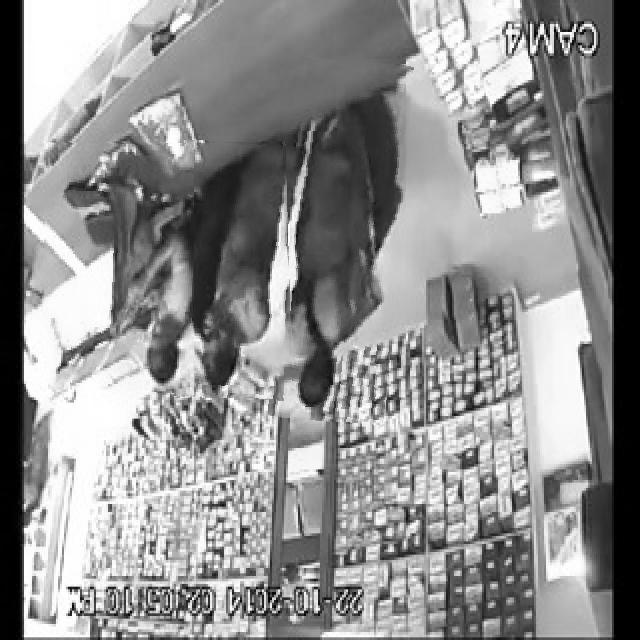Normal: (276, 59, 406, 423), (40, 143, 194, 392), (174, 141, 293, 398)
